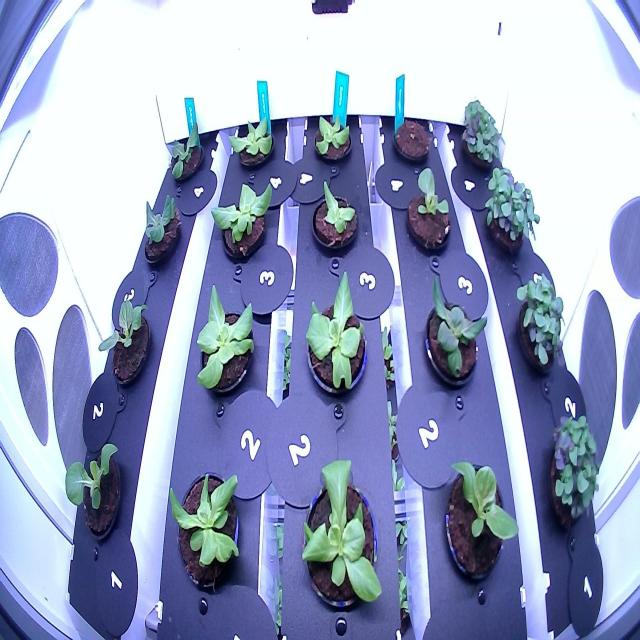pod: (388, 106, 436, 168)
young: (291, 447, 391, 630), (164, 449, 253, 601), (441, 452, 524, 598), (300, 263, 373, 415), (183, 273, 266, 405), (62, 429, 134, 558), (422, 268, 491, 400), (206, 167, 283, 274), (96, 283, 159, 398), (400, 159, 460, 265), (304, 170, 366, 262), (224, 102, 280, 180), (137, 187, 186, 275), (306, 105, 361, 178), (159, 115, 209, 193)
